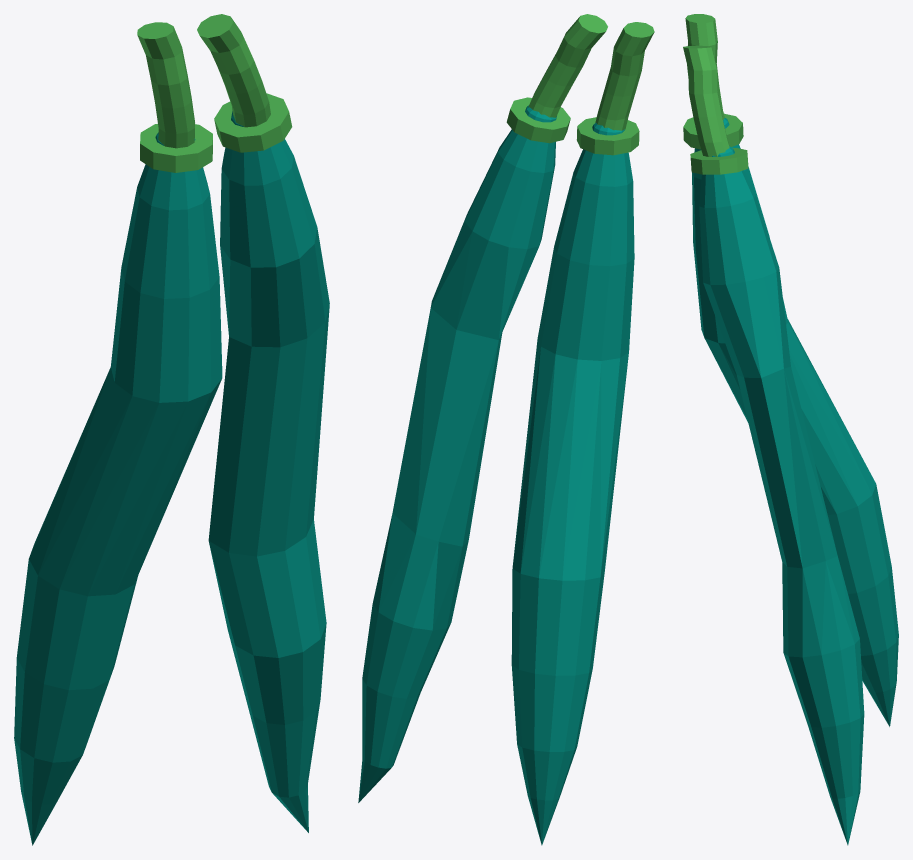
The model's file is beans.glb.
3 renders of one model, left to right at view 1: azimuth 30°, elevation 25°; view 2: azimuth 150°, elevation 25°; view 3: azimuth 270°, elevation 25°, orthographic. The views are drawn at different scales.
Parts seen in each view (by area): view 1: group1239635026, group1218014216, group1250333035, group880767537, group1792894746, group1401879506; view 2: group1239635026, group1218014216, group1250333035, group880767537, group1792894746, group1401879506; view 3: group1218014216, group1239635026, group880767537, group1250333035, group1792894746, group1401879506.
Boxes of the visible parts, x1=… form: group1239635026: x1=14, y1=132, x2=222, y2=845; group1218014216: x1=208, y1=111, x2=329, y2=832; group1250333035: x1=137, y1=22, x2=194, y2=148; group880767537: x1=197, y1=14, x2=270, y2=127; group1792894746: x1=214, y1=93, x2=292, y2=152; group1401879506: x1=140, y1=123, x2=212, y2=172; group1239635026: x1=511, y1=123, x2=634, y2=845; group1218014216: x1=358, y1=105, x2=556, y2=802; group1250333035: x1=595, y1=22, x2=654, y2=130; group880767537: x1=528, y1=14, x2=607, y2=117; group1792894746: x1=506, y1=97, x2=570, y2=143; group1401879506: x1=576, y1=117, x2=639, y2=155; group1218014216: x1=699, y1=146, x2=864, y2=845; group1239635026: x1=692, y1=118, x2=898, y2=726; group880767537: x1=683, y1=45, x2=729, y2=156; group1250333035: x1=685, y1=14, x2=724, y2=119; group1792894746: x1=690, y1=148, x2=748, y2=174; group1401879506: x1=683, y1=113, x2=743, y2=149.
Size of the model in its own units: 0.0855 by 0.2702 by 0.072.
